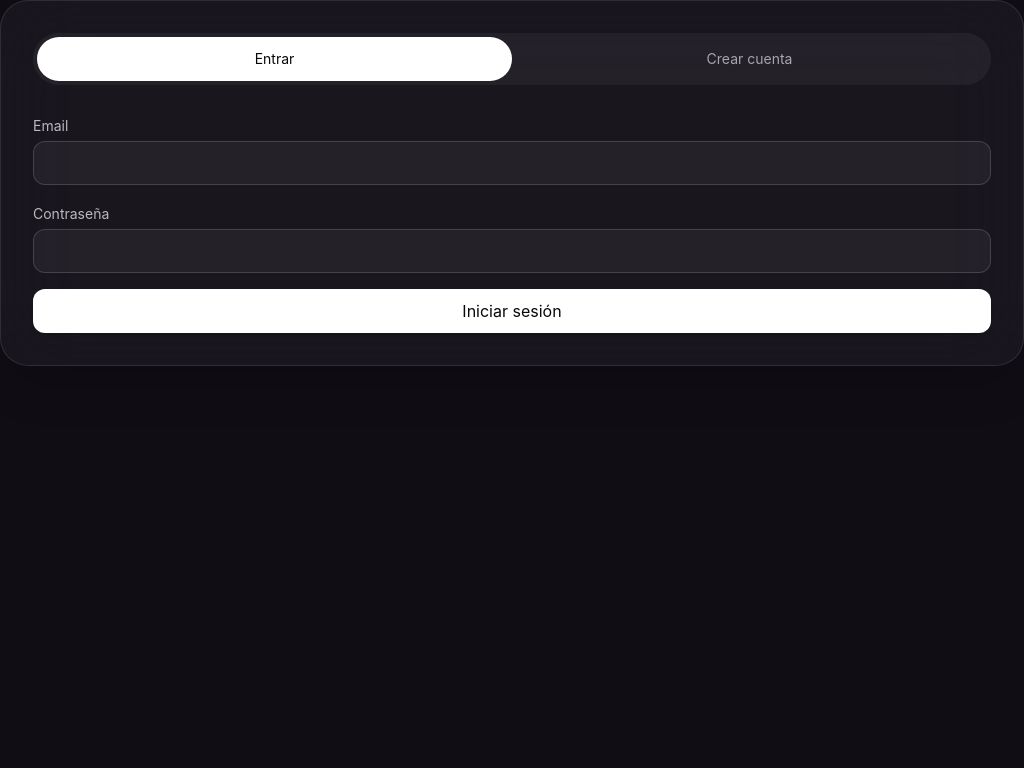
it: AuthPanel › defaults to the login tab and switches to registration
Expected: the button "Iniciar sesión" is shown, left=33, top=289, right=991, bottom=333
What coordinates should you click on to do the following:
click the button "Crear cuenta"
I would click on:
 (750, 59)
Its box is left=512, top=37, right=987, bottom=81.
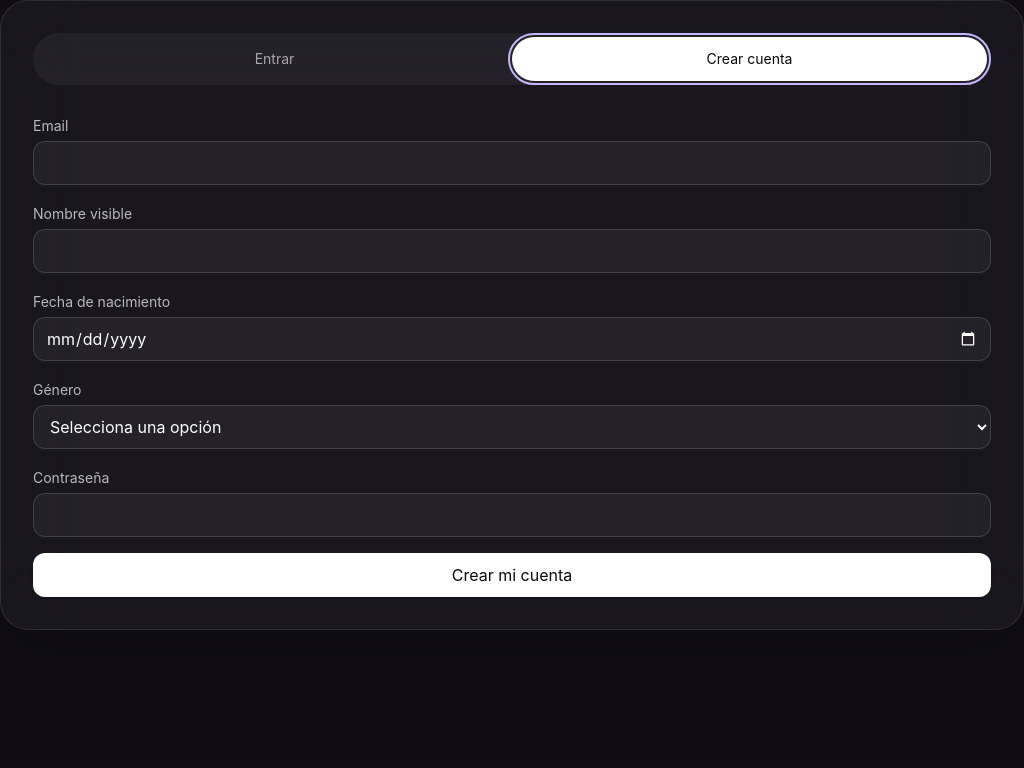
Expected: the field labelled "Nombre visible" is shown, left=33, top=229, right=991, bottom=273
Expected: the button "Crear mi cuenta" is shown, left=33, top=553, right=991, bottom=597
